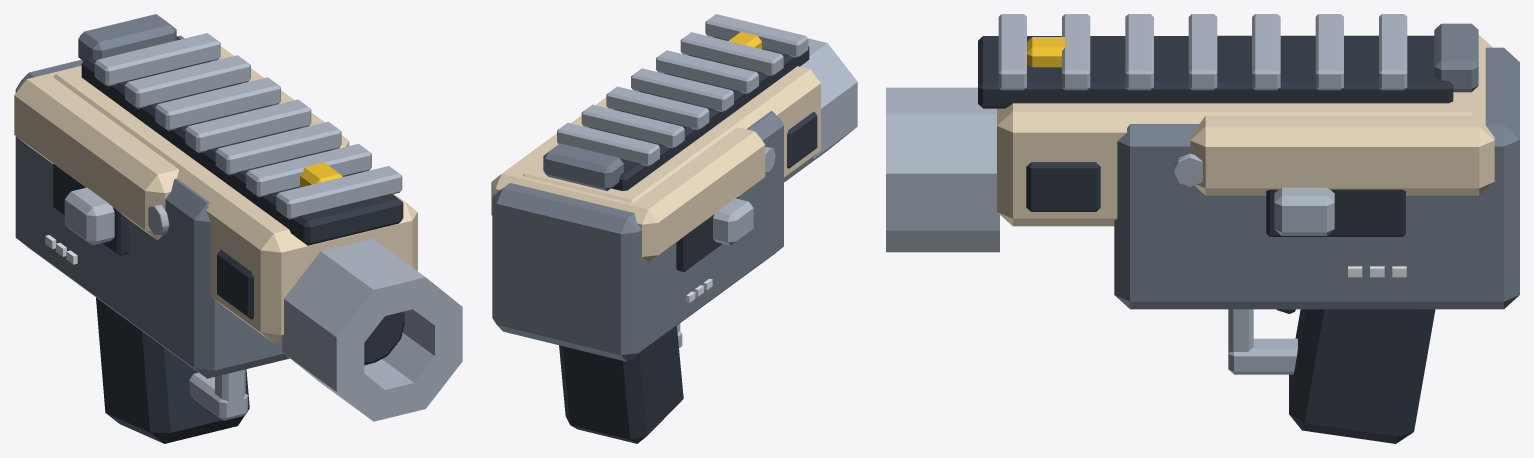
File: Military_HG_v001.fbx
The picture shows the model from 3 angles, left to right: view 1: azimuth 30°, elevation 25°; view 2: azimuth 150°, elevation 25°; view 3: azimuth 270°, elevation 25°; orthographic projection. The views are drawn at different scales.
Parts seen in each view (by area): view 1: Military_HG__RECEIVER_MESH; view 2: Military_HG__RECEIVER_MESH; view 3: Military_HG__RECEIVER_MESH.
Boxes of the visible parts, x1,y1,x2,y2 form: Military_HG__RECEIVER_MESH: [14, 14, 462, 443]; Military_HG__RECEIVER_MESH: [491, 14, 857, 443]; Military_HG__RECEIVER_MESH: [886, 14, 1519, 443].
Size of the model in its own units: 0.475 by 0.6669 by 1.
